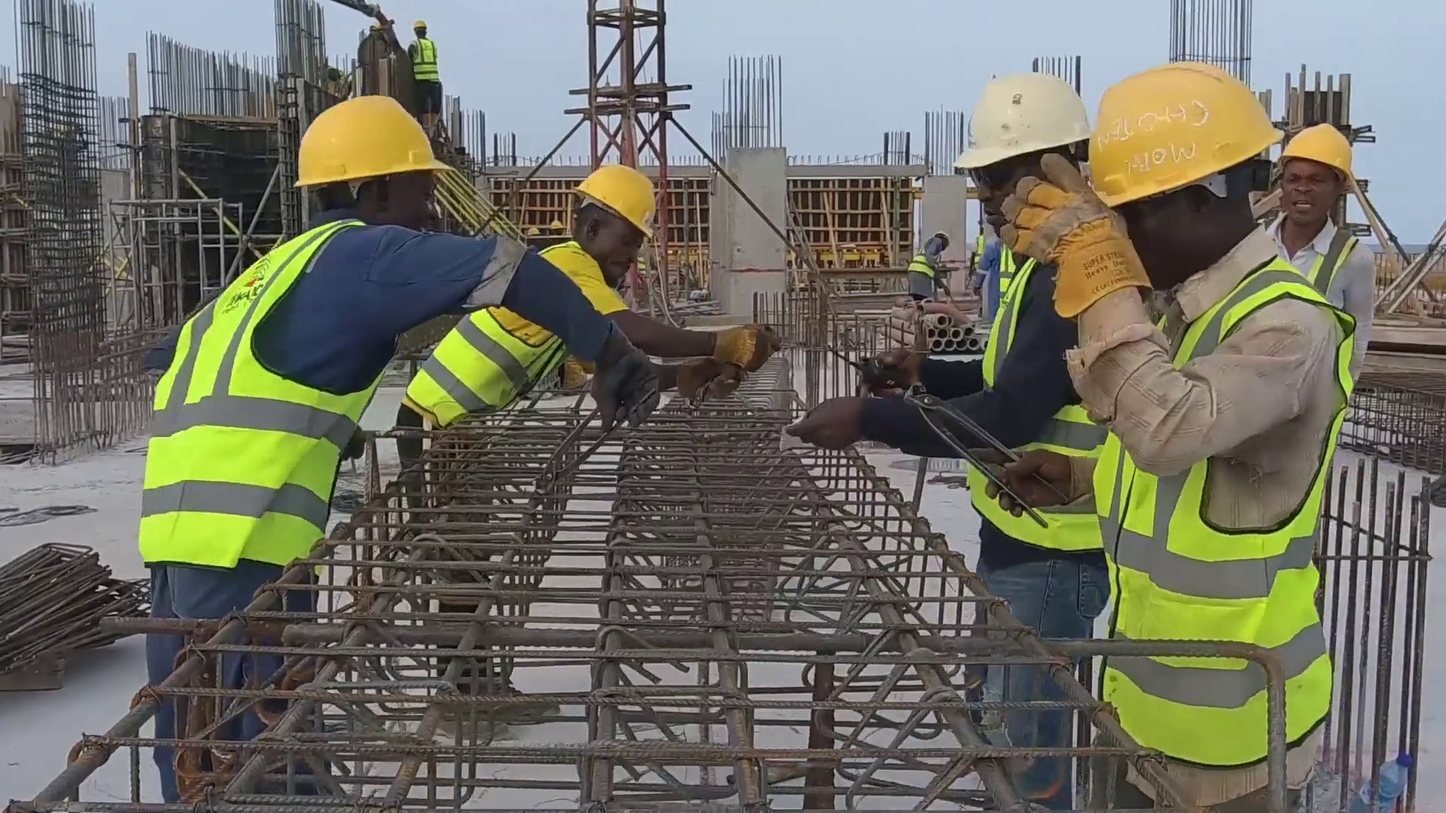helmet: (1087, 56, 1287, 212), (299, 93, 457, 188), (950, 71, 1094, 169), (560, 163, 664, 248), (1283, 125, 1354, 191), (413, 20, 427, 32)
person: (136, 96, 664, 813), (974, 59, 1358, 813), (781, 72, 1110, 813), (391, 166, 782, 489), (1253, 123, 1377, 385), (404, 20, 443, 126), (907, 232, 953, 301)
